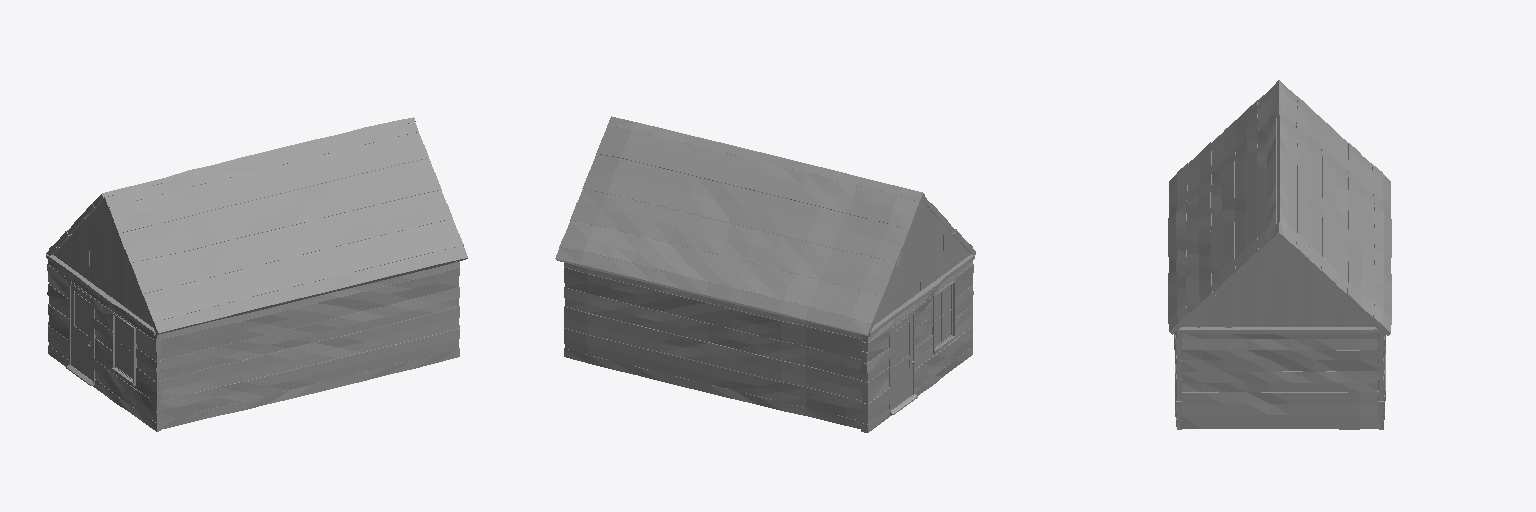
The model's file is Building01.obj.
The picture shows the model from 3 angles: view 1: azimuth 30°, elevation 25°; view 2: azimuth 150°, elevation 25°; view 3: azimuth 270°, elevation 25°; orthographic projection.
Parts seen in each view (by area): view 1: WildWest_Building01_Roof._WildWest_Building01_Roof, WildWest_Building01_Walls, WildWest_Building01_Door, WildWest_Building01_Window; view 2: WildWest_Building01_Roof._WildWest_Building01_Roof, WildWest_Building01_Walls, WildWest_Building01_Door, WildWest_Building01_Window; view 3: WildWest_Building01_Roof._WildWest_Building01_Roof, WildWest_Building01_Walls.
Boxes of the visible parts, x1=… form: WildWest_Building01_Roof._WildWest_Building01_Roof: x1=46, y1=117, x2=467, y2=334; WildWest_Building01_Walls: x1=46, y1=254, x2=459, y2=431; WildWest_Building01_Door: x1=71, y1=286, x2=92, y2=380; WildWest_Building01_Window: x1=116, y1=318, x2=132, y2=378; WildWest_Building01_Roof._WildWest_Building01_Roof: x1=555, y1=116, x2=975, y2=336; WildWest_Building01_Walls: x1=564, y1=254, x2=974, y2=432; WildWest_Building01_Door: x1=891, y1=315, x2=913, y2=409; WildWest_Building01_Window: x1=935, y1=286, x2=950, y2=346; WildWest_Building01_Roof._WildWest_Building01_Roof: x1=1168, y1=80, x2=1391, y2=335; WildWest_Building01_Walls: x1=1174, y1=327, x2=1385, y2=429.
Size of the model in its own units: 9.37 by 5.8 by 5.76.